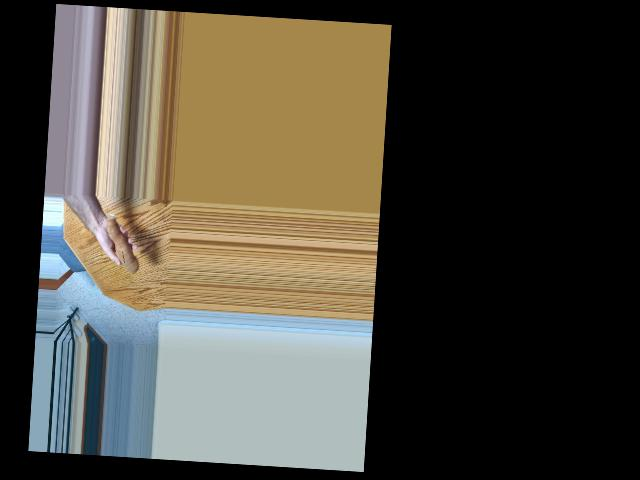sweet_potato: (98, 212, 142, 275)
